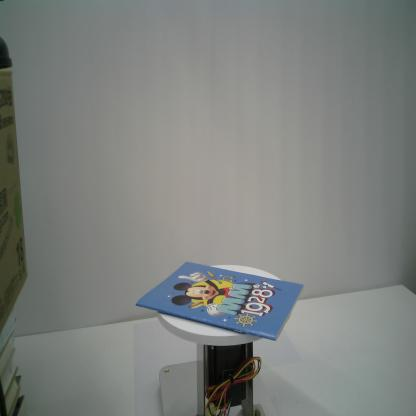Stationery: (134, 260, 304, 344)
